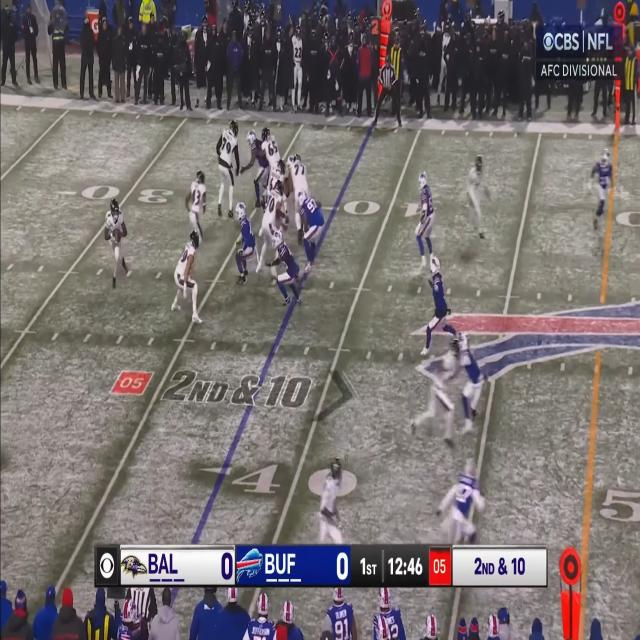Ball: (114, 227, 122, 242)
